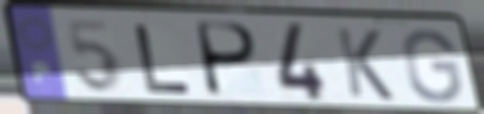4: (273, 20, 329, 105)
5: (64, 18, 127, 97)
G: (399, 26, 465, 105)
K: (332, 25, 397, 103)
L: (130, 22, 196, 96)
P: (195, 19, 261, 101)
